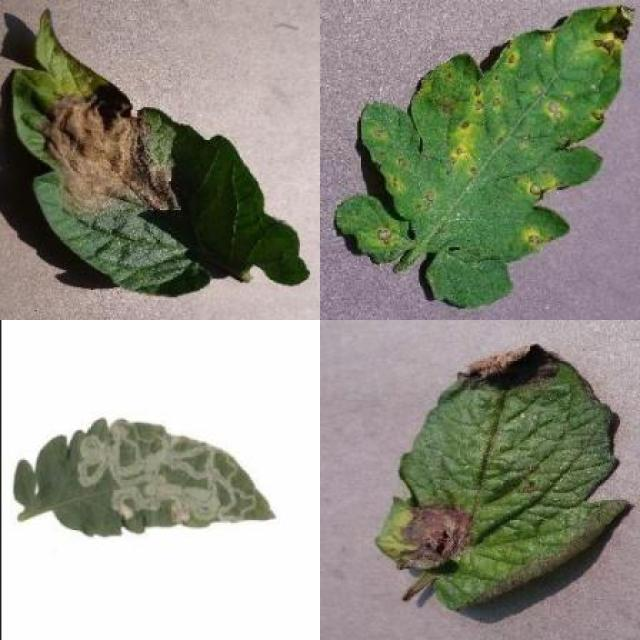Late Blight: (11, 7, 310, 300), (374, 342, 630, 612)
Leaf Miner: (12, 415, 274, 538)
Septoria: (334, 5, 635, 309)
